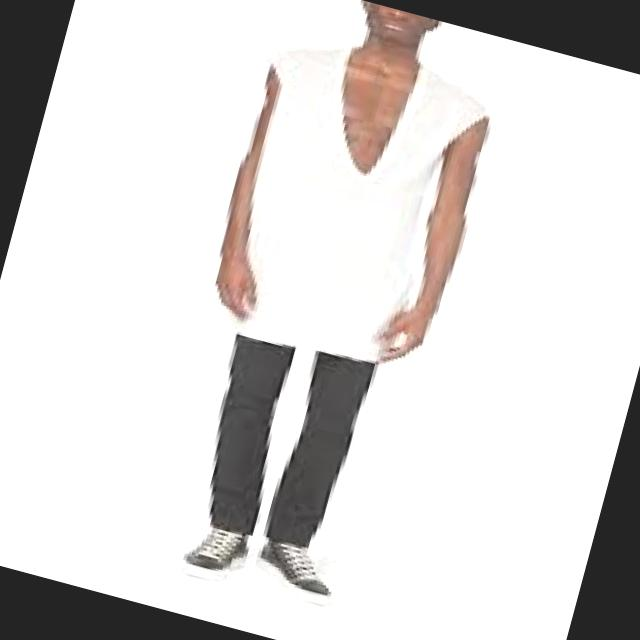no_vest: (195, 19, 500, 382)
